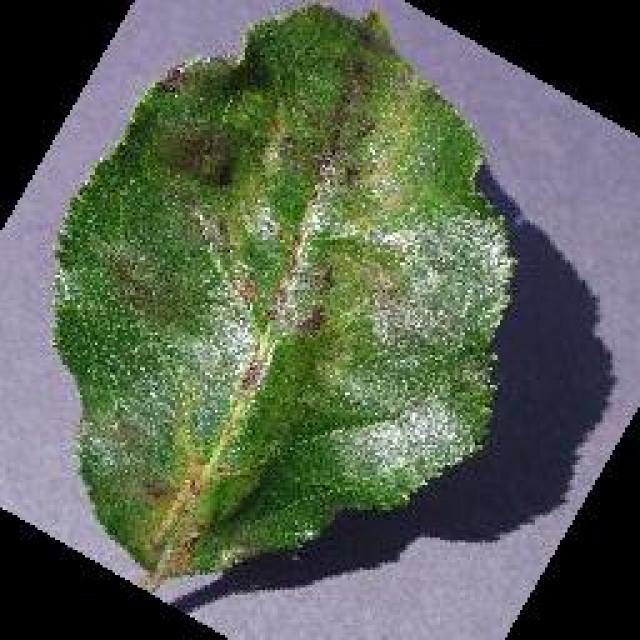apple scab disease: (48, 0, 518, 585)
